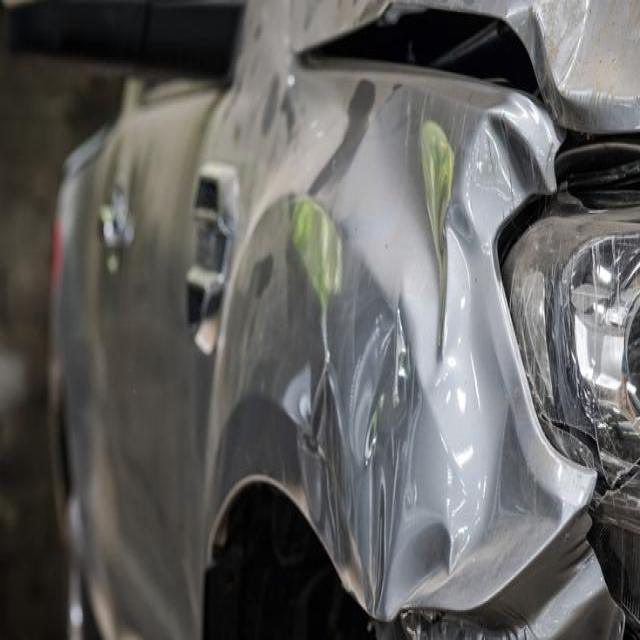Dent: (220, 0, 306, 159), (524, 0, 596, 108), (258, 76, 279, 136), (302, 0, 321, 31)
